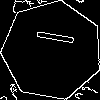I: (27, 25, 75, 48)
